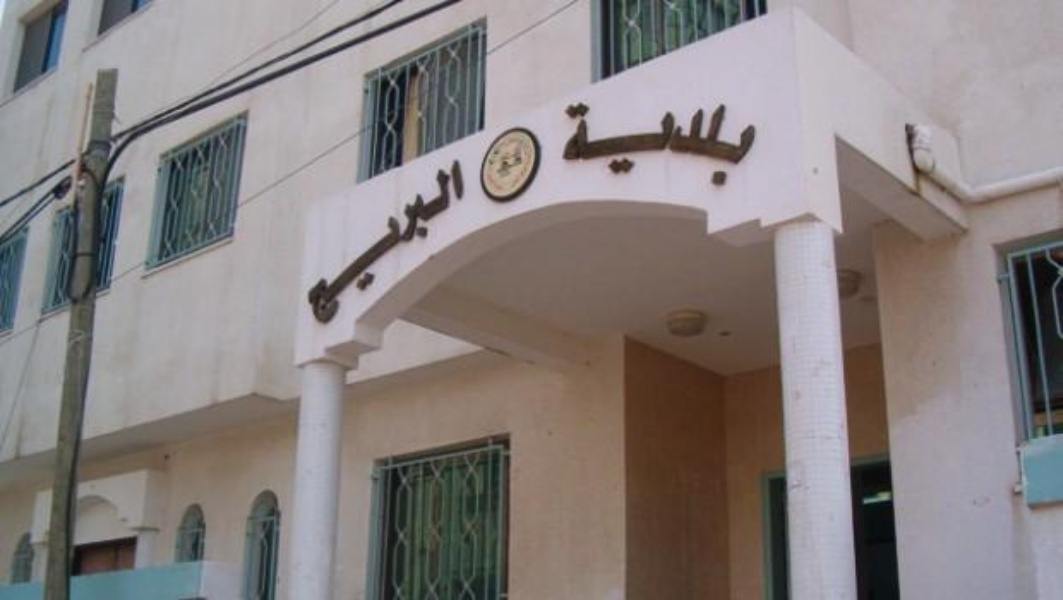text: (305, 151, 320, 338), (321, 151, 336, 338), (337, 151, 352, 338), (353, 151, 368, 338), (369, 151, 384, 338), (385, 151, 400, 338), (401, 151, 416, 338), (417, 151, 432, 338), (433, 151, 448, 338), (449, 151, 464, 338), (561, 95, 576, 194), (577, 95, 592, 194), (593, 95, 608, 194), (609, 95, 624, 194), (625, 95, 640, 194), (641, 95, 656, 194), (657, 95, 672, 194), (673, 95, 688, 194), (689, 95, 704, 194), (705, 95, 720, 194), (721, 95, 736, 194), (737, 95, 752, 194), (753, 95, 768, 194), (465, 151, 469, 338), (769, 95, 774, 194), (302, 151, 304, 338), (558, 95, 560, 194)
